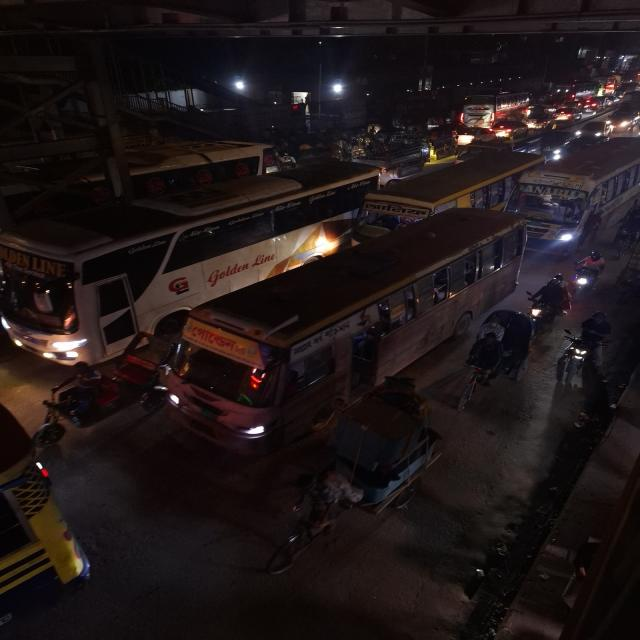bus: (164, 212, 531, 448), (0, 150, 384, 366), (350, 150, 543, 236), (516, 134, 640, 250), (460, 92, 524, 126)
car: (606, 106, 640, 130), (490, 119, 528, 137), (579, 120, 612, 137)
motorcycle: (556, 309, 614, 381), (529, 272, 571, 324), (572, 248, 608, 294)
pickup_van: (354, 132, 437, 170)
rickshaw: (270, 381, 442, 577), (47, 337, 170, 429), (456, 305, 538, 403)
